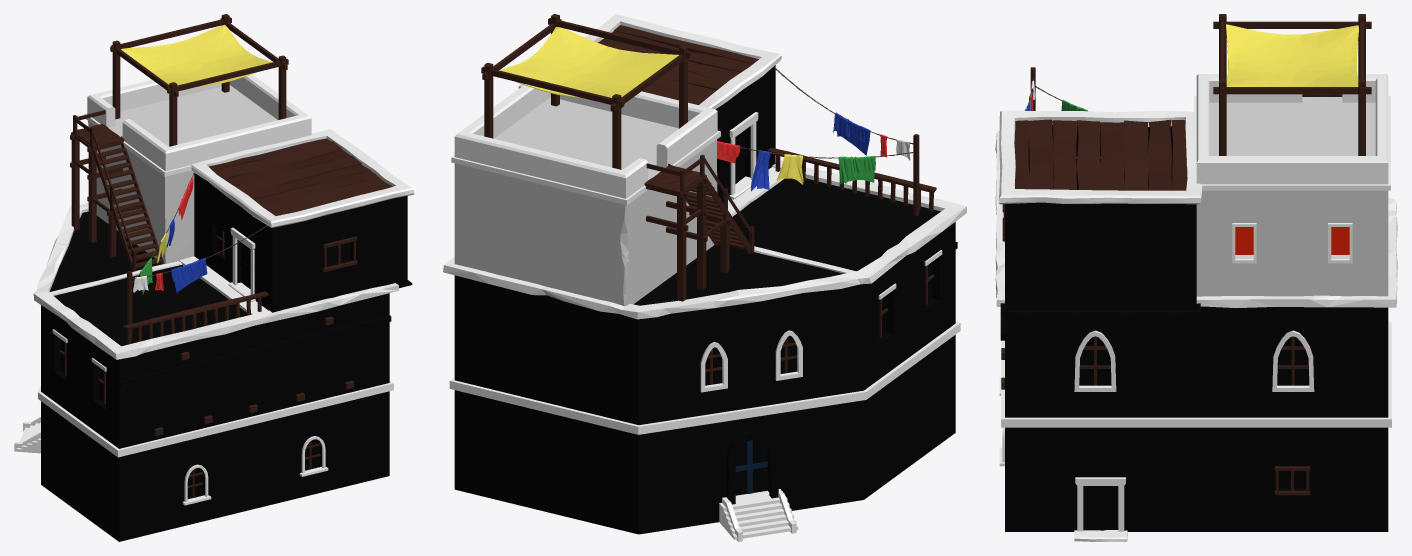
Rendered from civilian_house_08.FBX.
3 views of the same model, side by side, from view 1: azimuth 30°, elevation 25°; view 2: azimuth 150°, elevation 25°; view 3: azimuth 270°, elevation 25° (orthographic). The views are drawn at different scales.
Parts seen in each view (by area): view 1: civilian_house_08; view 2: civilian_house_08; view 3: civilian_house_08.
Part boxes in pixels (bbox=[...]): civilian_house_08: bbox=[14, 14, 414, 541]; civilian_house_08: bbox=[443, 14, 966, 541]; civilian_house_08: bbox=[995, 14, 1397, 541].
Bounding box in the file's own units: 1667 × 1910 × 1575.
